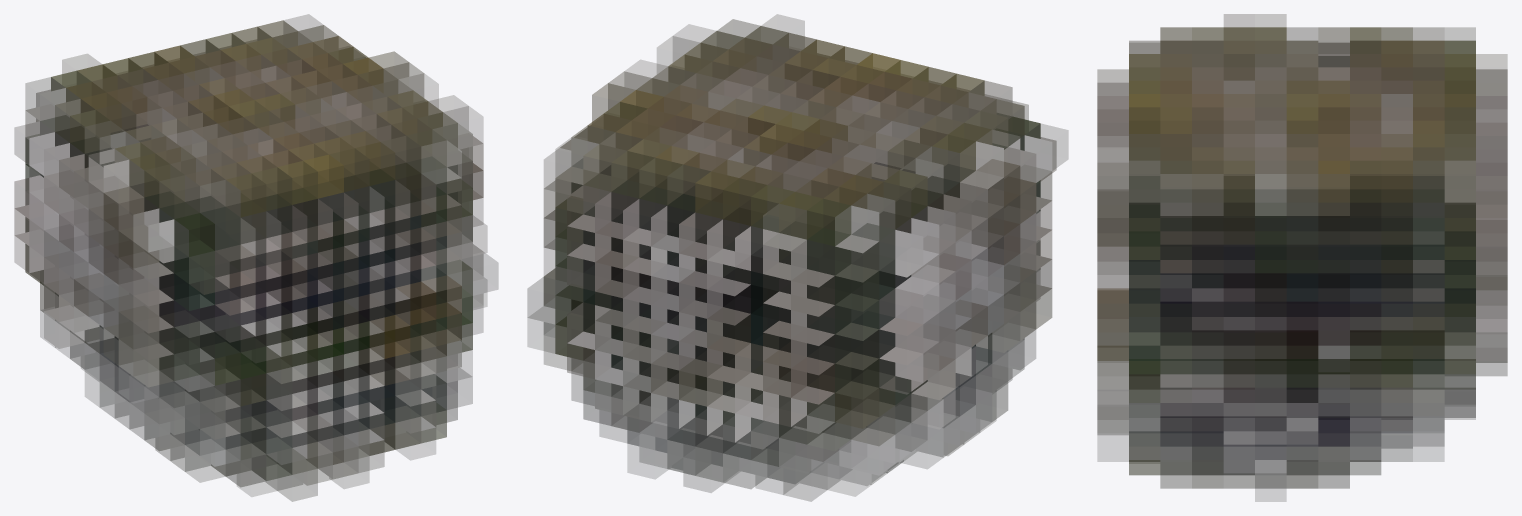
Rendered from iter_30.obj.
The picture shows the model from 3 angles, left to right: view 1: azimuth 30°, elevation 25°; view 2: azimuth 150°, elevation 25°; view 3: azimuth 270°, elevation 25°; orthographic projection. The views are drawn at different scales.
Parts seen in each view (by area): view 1: iter_30; view 2: iter_30; view 3: iter_30.
Part boxes in pixels (x1,y1,x2,y2): iter_30: (14,14,497,501); iter_30: (527,14,1067,501); iter_30: (1097,14,1507,501).
Size of the model in its own units: 1.4 by 1.2 by 1.3.
